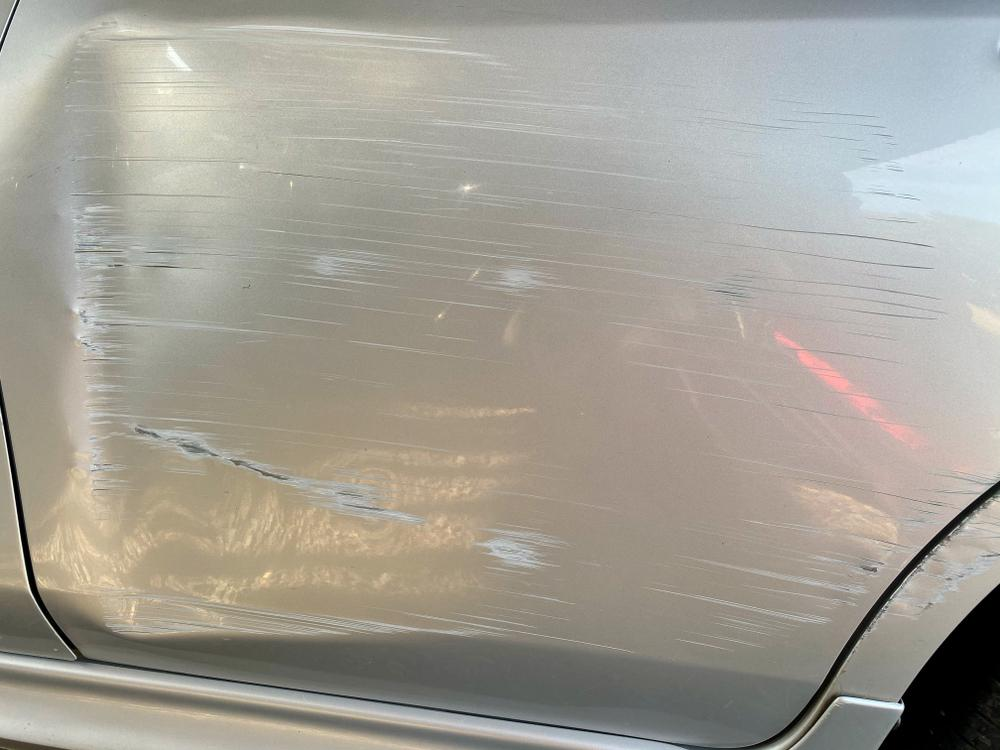scratch: (66, 14, 1000, 657), (855, 489, 1000, 655)
